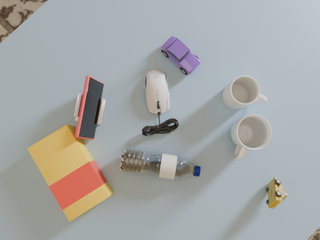bottle: (119, 148, 200, 180)
box: (28, 125, 113, 221)
cup: (231, 115, 272, 160), (223, 76, 267, 109)
mouse: (145, 69, 169, 114)
phone: (75, 76, 104, 139)
toy_car: (161, 36, 201, 75), (266, 177, 287, 209)
